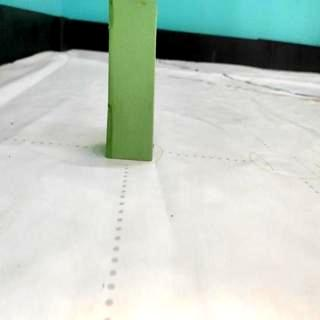greenbox: (103, 0, 159, 161)
